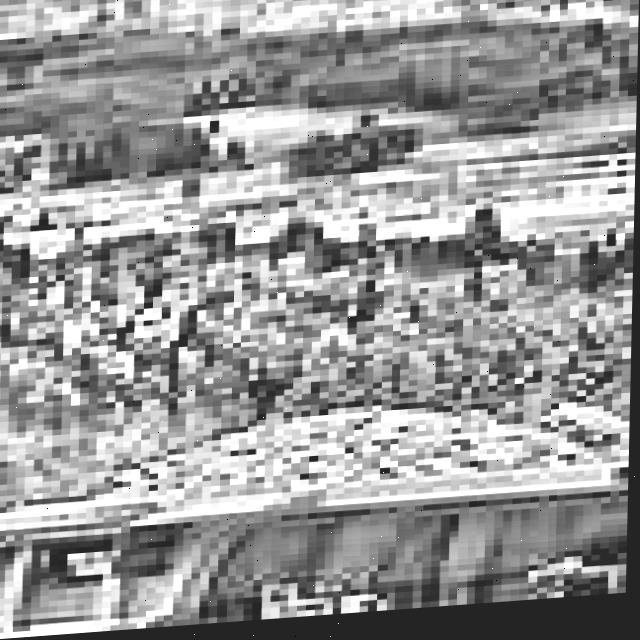dump_truck: (0, 363, 633, 640)
